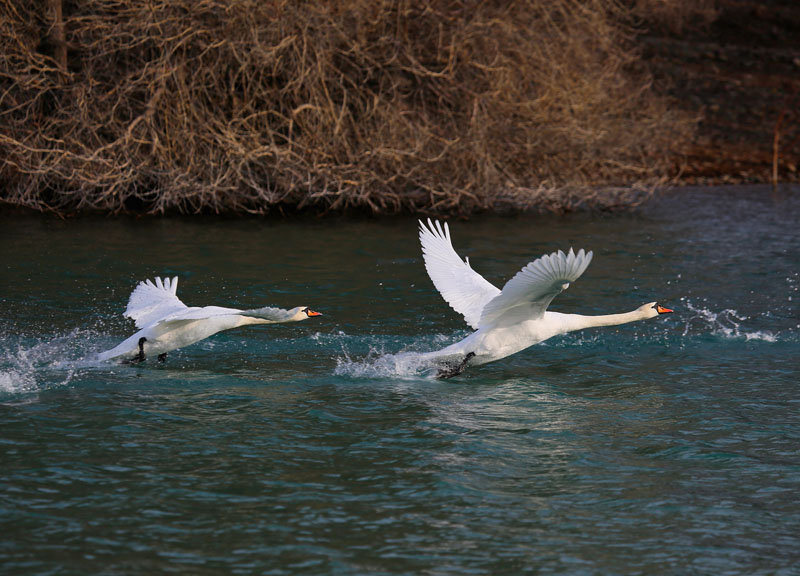bird: (367, 216, 677, 382), (77, 272, 321, 375)
